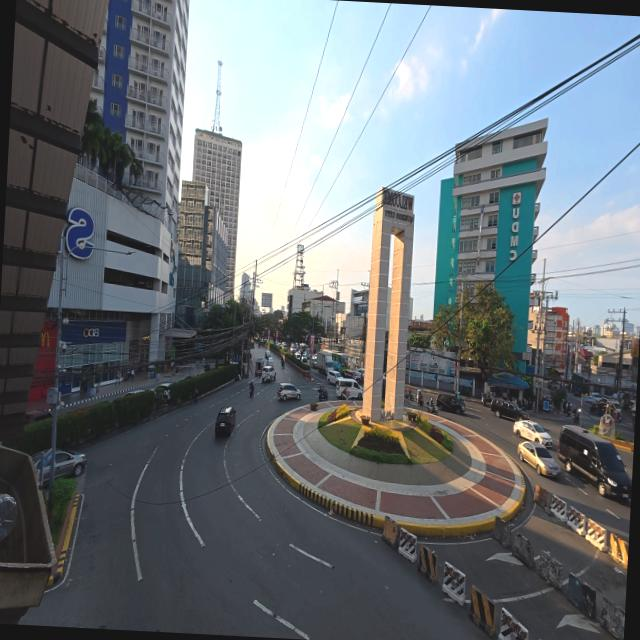Jeepneys: (254, 358, 264, 377)
car: (517, 442, 560, 477), (512, 421, 552, 447), (490, 398, 527, 421), (32, 450, 50, 483), (436, 394, 465, 414), (214, 407, 234, 436), (277, 383, 300, 400), (24, 410, 51, 424), (606, 400, 621, 422), (152, 383, 169, 401), (260, 365, 274, 382), (326, 370, 341, 384), (121, 389, 144, 398), (342, 369, 359, 381), (589, 392, 601, 401), (356, 368, 363, 383), (264, 350, 272, 361), (265, 357, 273, 367), (311, 355, 316, 367), (294, 351, 300, 360), (281, 342, 286, 349)
motorcycle: (426, 399, 437, 415), (317, 387, 327, 401), (481, 393, 491, 406), (339, 388, 349, 400), (572, 410, 579, 423), (404, 392, 413, 401), (417, 395, 423, 406), (249, 385, 252, 397), (281, 358, 284, 368)
trucks: (316, 350, 334, 374)
vans: (557, 426, 631, 499), (335, 377, 361, 399)
